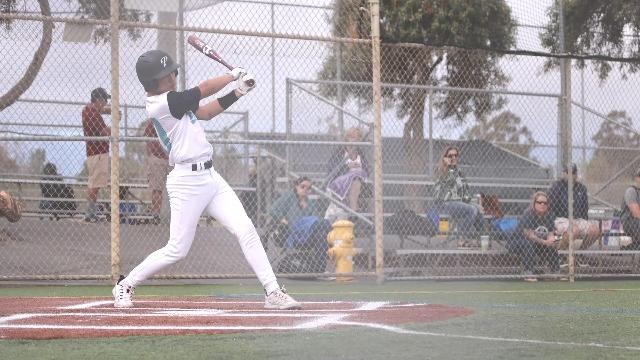baseball bat: (186, 35, 236, 71)
